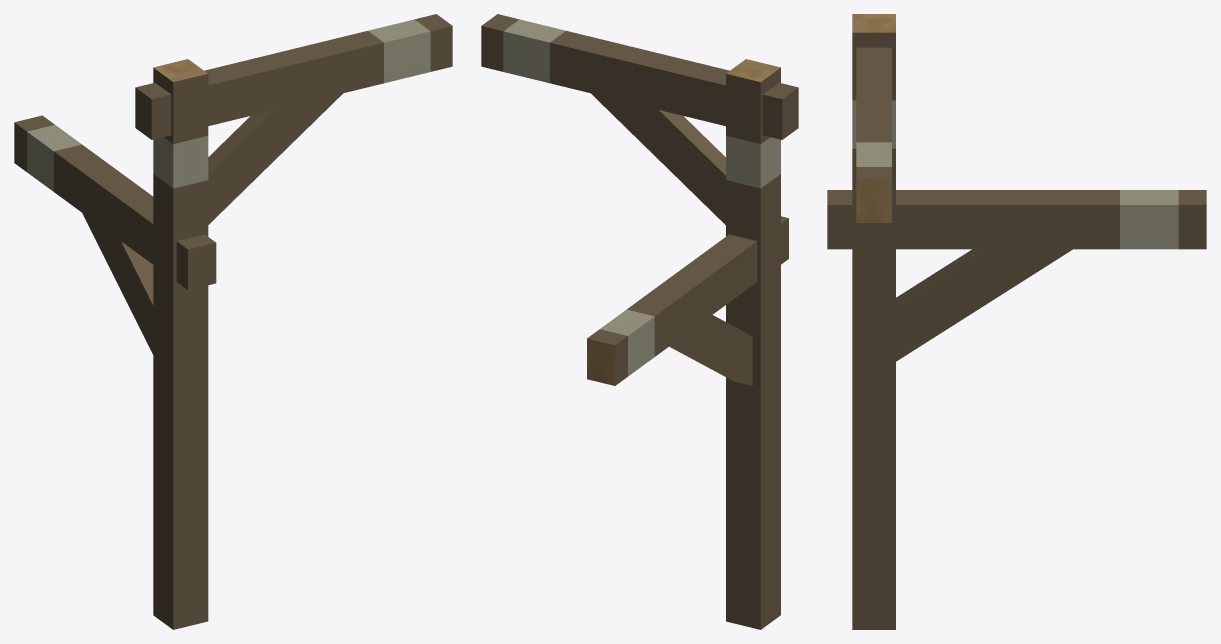
The model's file is Pole_3.fbx.
The picture shows the model from 3 angles, left to right: view 1: azimuth 30°, elevation 25°; view 2: azimuth 150°, elevation 25°; view 3: azimuth 270°, elevation 25°; orthographic projection. The views are drawn at different scales.
Parts seen in each view (by area): view 1: polySurface9783; view 2: polySurface9783; view 3: polySurface9783.
Part boxes in pixels (<box>): polySurface9783: <box>14,14,452,629</box>; polySurface9783: <box>481,14,798,629</box>; polySurface9783: <box>827,14,1206,629</box>.
Bounding box in the file's own units: 216 × 375 × 216.
